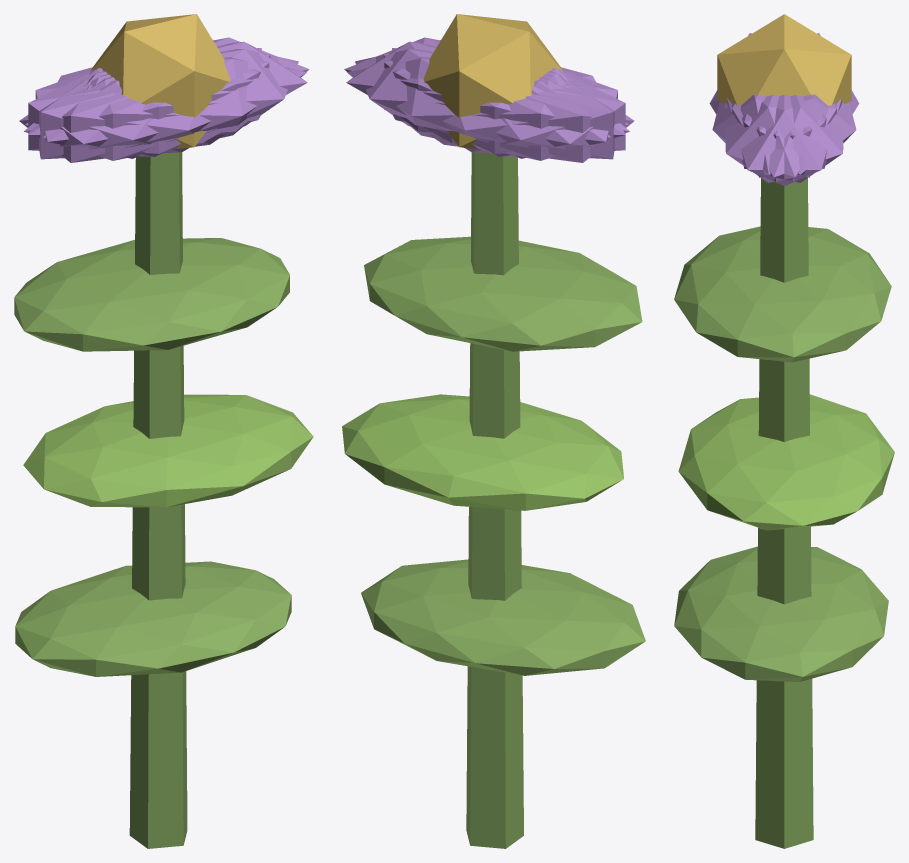
Rendered from oxalis-corniculata.glb.
3 renders of one model, left to right at view 1: azimuth 30°, elevation 25°; view 2: azimuth 150°, elevation 25°; view 3: azimuth 270°, elevation 25°, orthographic.
Parts seen in each view (by area): view 1: stem, leaf2, leaf1, leaf0, center, petal1, petal6, petal2, petal5, petal7, petal0, petal4 (+2 smaller); view 2: stem, leaf1, leaf2, leaf0, center, petal8, petal3, petal7, petal4, petal2, petal0, petal5 (+2 smaller); view 3: stem, leaf1, leaf2, leaf0, center, petal0, petal4, petal5, petal1, petal8.
Boxes of the visible parts, x1,y1,x2,y2 form: stem: (129,152,187,848); leaf2: (14,238,289,351); leaf1: (23,394,313,507); leaf0: (15,561,291,676); center: (90,14,230,149); petal1: (24,57,306,160); petal6: (19,69,224,162); petal2: (39,48,261,159); petal5: (43,49,298,153); petal7: (28,54,270,156); petal0: (90,41,307,143); petal4: (25,37,309,135); stem: (466,152,523,848); leaf1: (342,394,623,510); leaf2: (364,236,642,351); leaf0: (361,559,645,675); center: (423,14,562,149); petal8: (347,57,629,160); petal3: (429,69,634,162); petal7: (392,48,614,159); petal4: (355,49,610,153); petal2: (383,54,625,156); petal0: (346,41,563,143); petal5: (344,37,628,135); stem: (755,178,813,848); leaf1: (678,394,894,530); leaf2: (674,226,891,362); leaf0: (674,546,888,681); center: (717,14,851,105); petal0: (727,95,841,186); petal4: (732,95,843,182); petal5: (725,95,836,182); petal1: (712,94,826,174); petal8: (742,94,856,174).
Size of the model in its own units: 0.1493 by 0.4054 by 0.1009.
